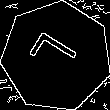L_SE: (27, 30, 86, 83)
